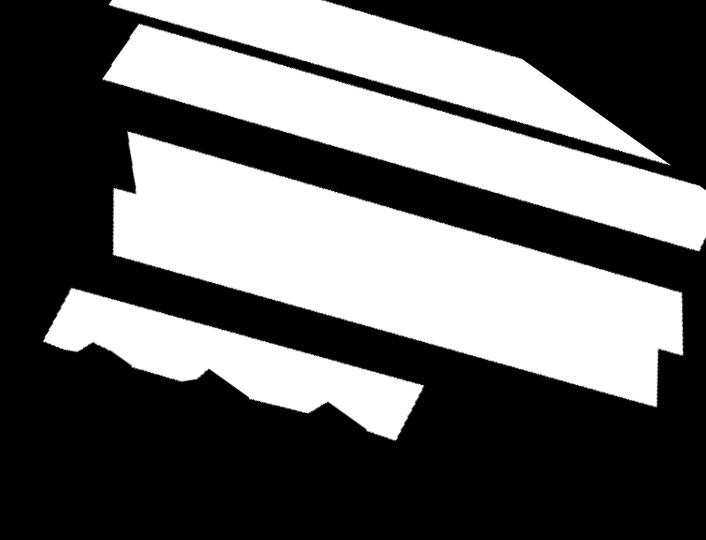parkingspot: (113, 131, 683, 407), (103, 24, 706, 251), (109, 0, 670, 165), (43, 288, 424, 441)
